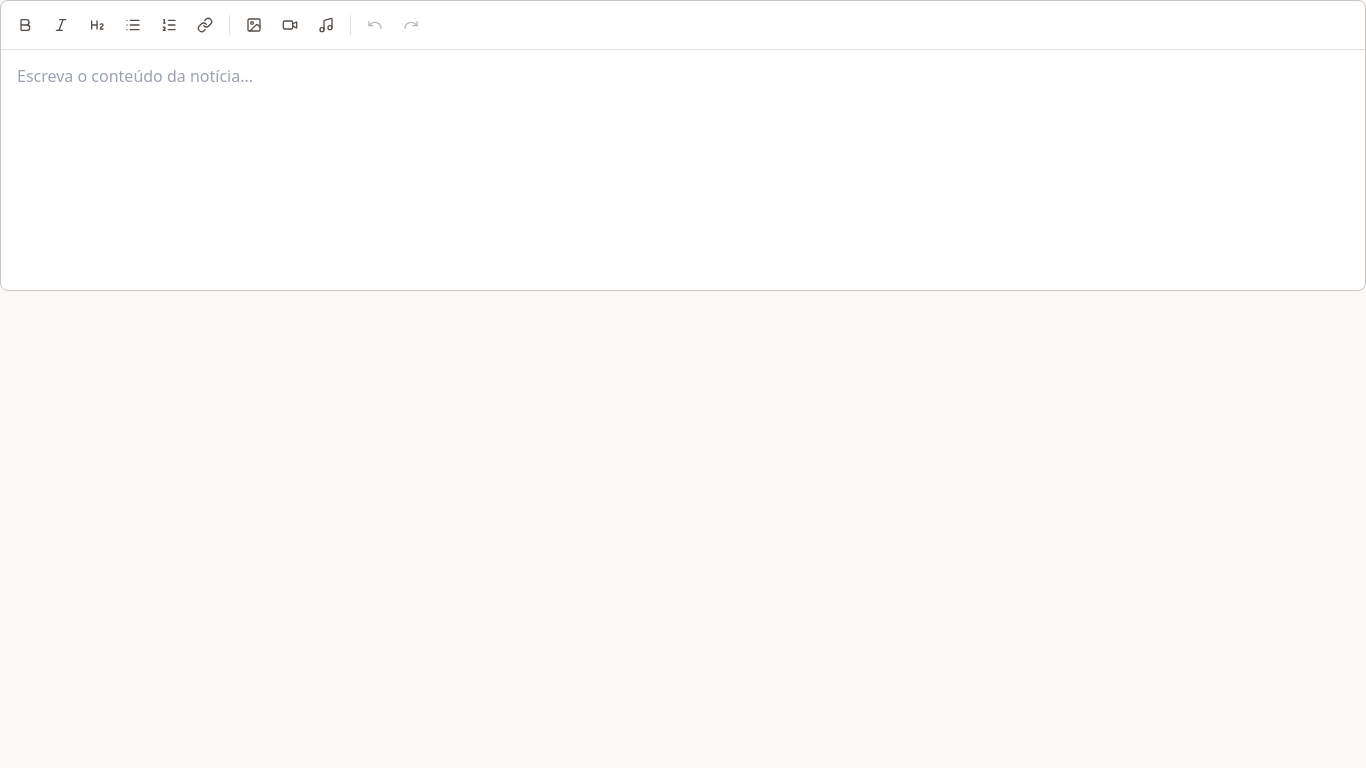
Test: Editor — media toolbar › opens the matching "Inserir" modal for each of the 3 media buttons
Click the button named "Inserir imagem" at (254, 25), box x1=238 y1=9 x2=270 y2=41
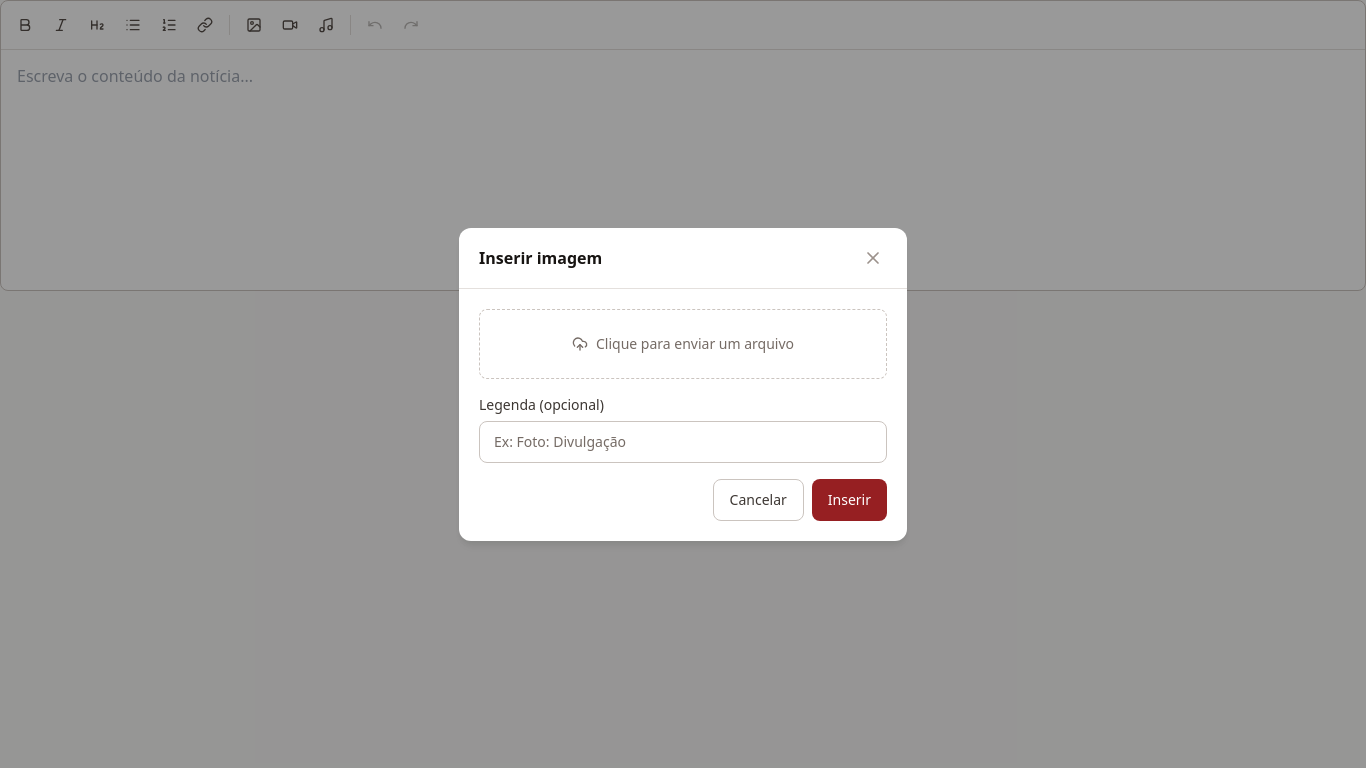
Expected: the heading "Inserir imagem" is shown, x1=479 y1=246 x2=602 y2=270
Click the button named "Fechar" at (873, 258), box x1=859 y1=244 x2=887 y2=272
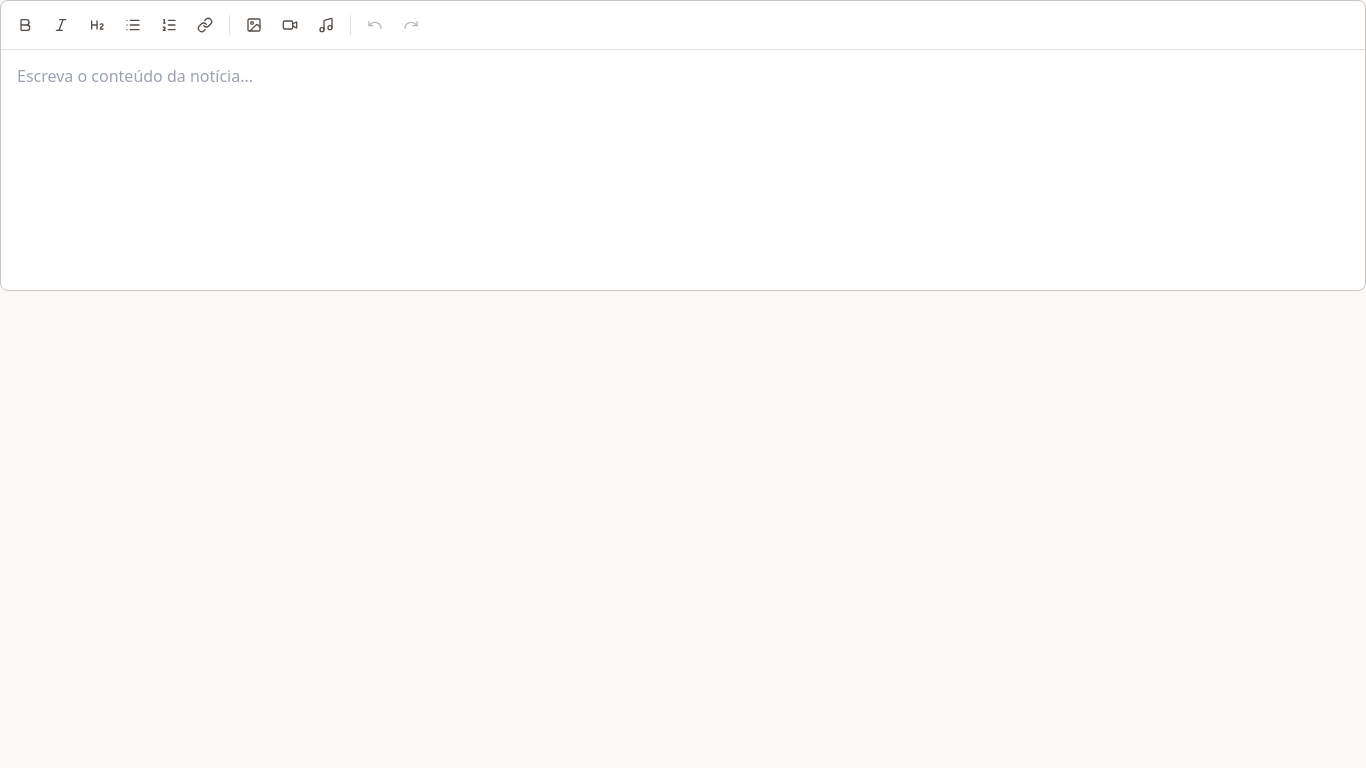
Click the button named "Inserir vídeo" at (290, 25), box x1=274 y1=9 x2=306 y2=41
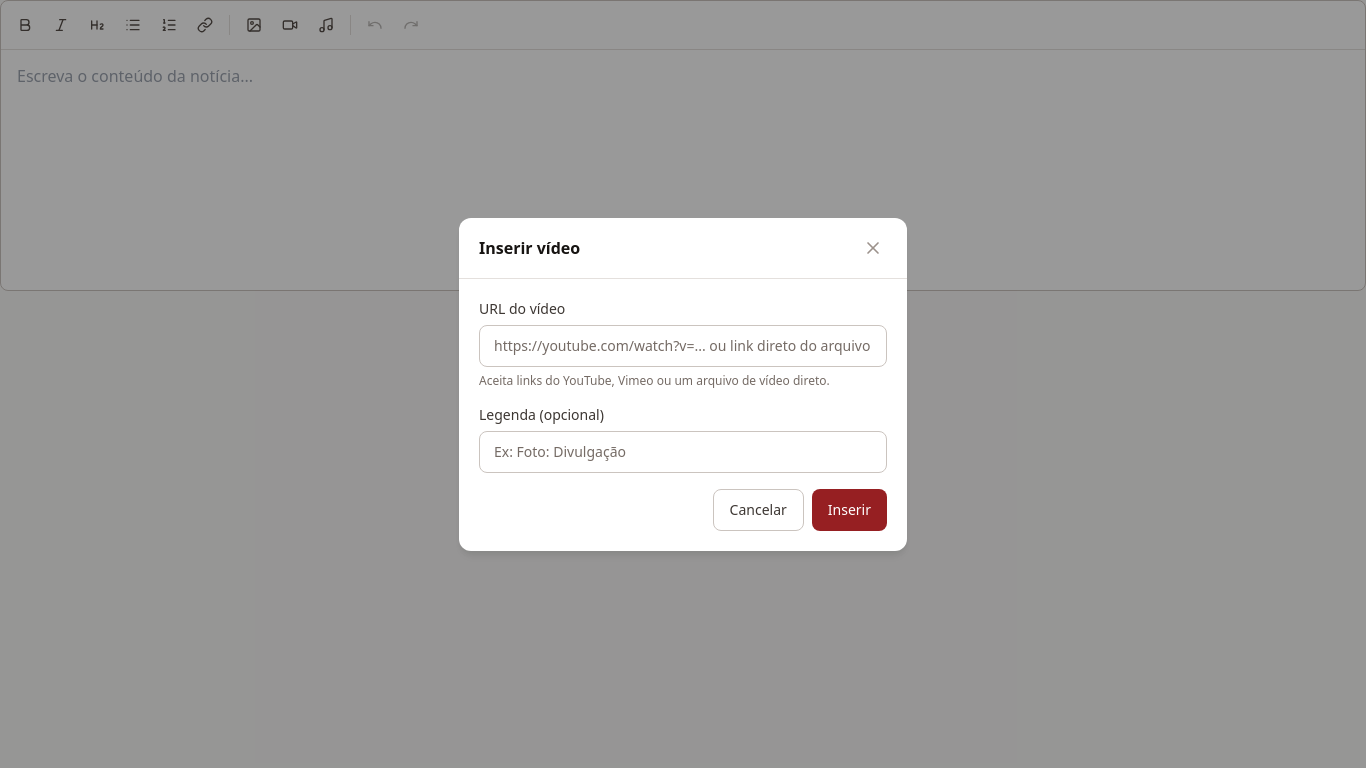
Expected: the heading "Inserir vídeo" is shown, x1=479 y1=236 x2=580 y2=260
Click the button named "Fechar" at (873, 248), box x1=859 y1=234 x2=887 y2=262
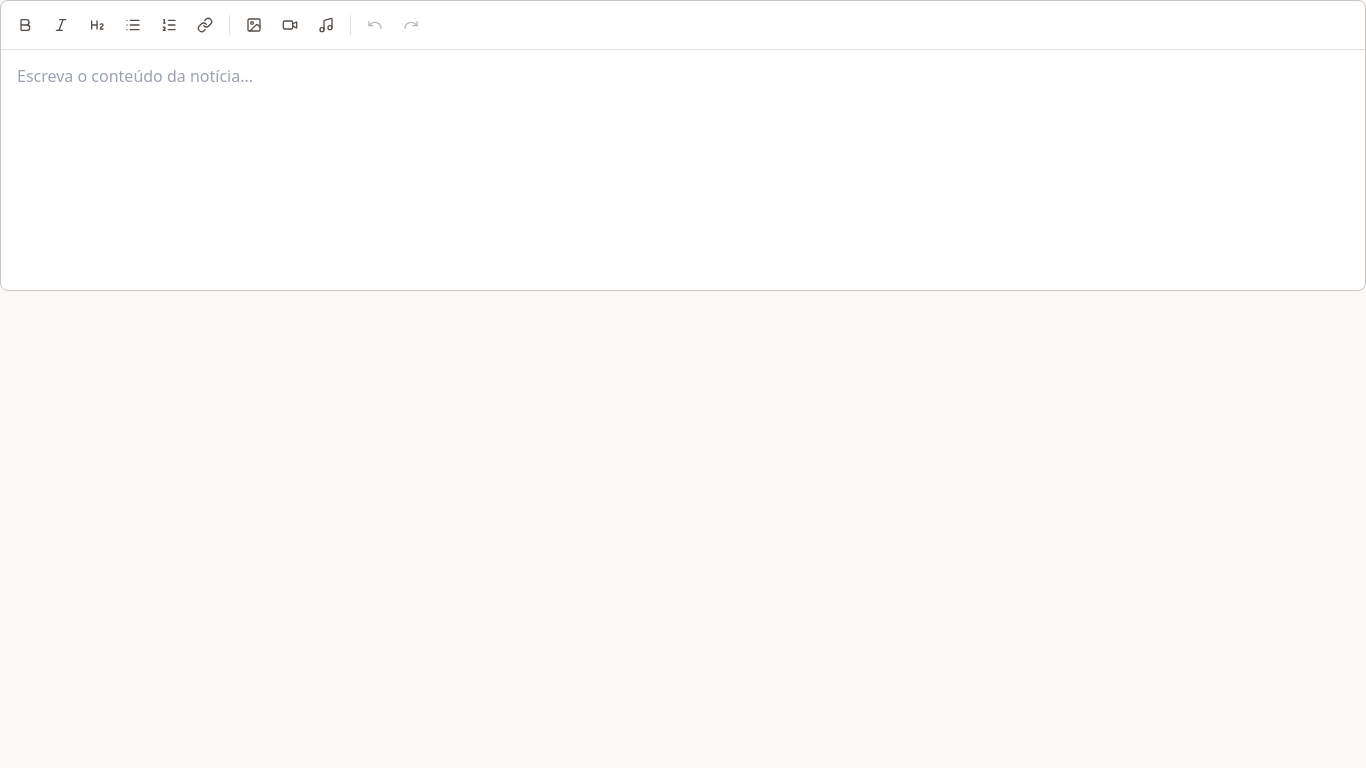
Click the button named "Inserir áudio" at (326, 25), box x1=310 y1=9 x2=342 y2=41
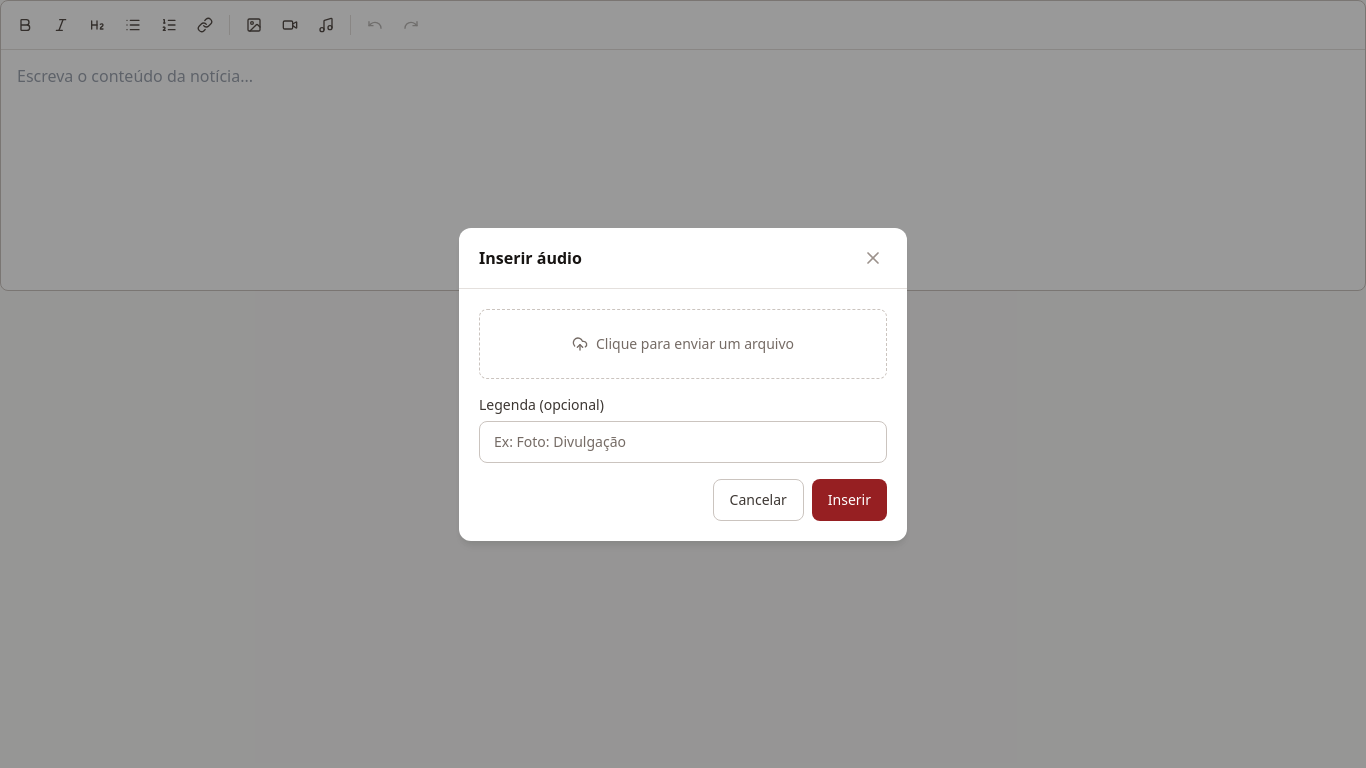
Expected: the heading "Inserir áudio" is shown, x1=479 y1=246 x2=582 y2=270
